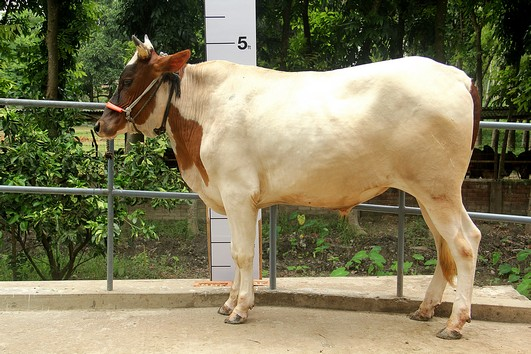cow: (92, 30, 487, 329)
